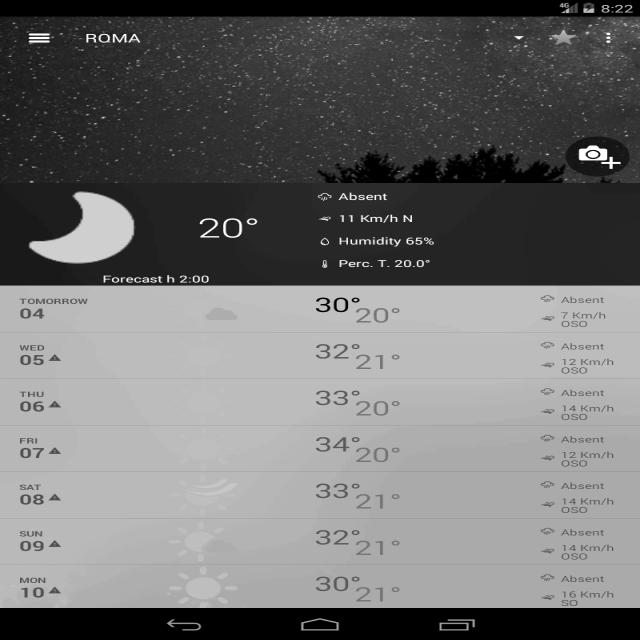ImageButton: (558, 134, 634, 177), (538, 24, 590, 51), (22, 23, 64, 51), (598, 28, 622, 54)
ImageView: (15, 183, 156, 267), (157, 287, 256, 335), (160, 475, 248, 515), (157, 566, 248, 604)
TextView: (308, 291, 422, 330), (302, 566, 408, 604), (308, 477, 402, 519), (310, 388, 404, 426), (190, 212, 268, 244), (338, 253, 438, 269), (82, 27, 146, 47), (335, 187, 399, 205)
